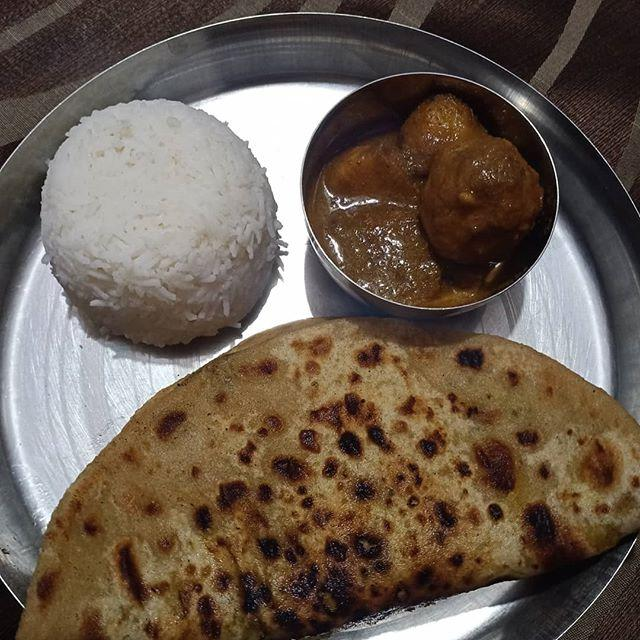Roti: (0, 317, 640, 640)
White Rice: (16, 75, 293, 362)
